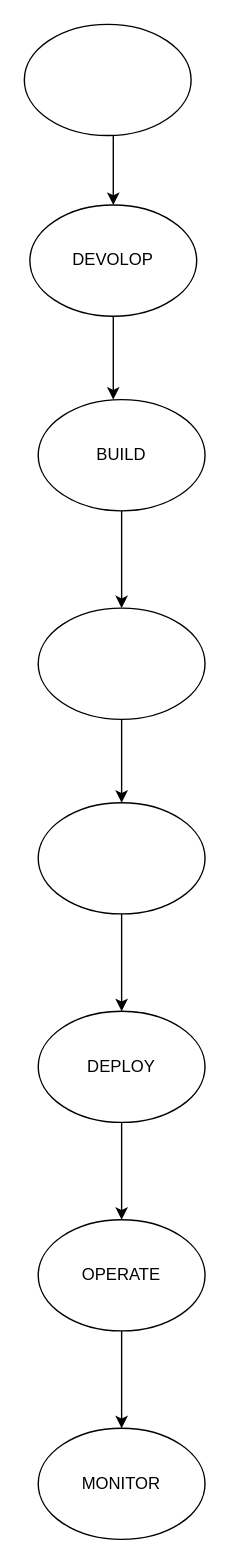
This 229x1564 diagram has some shape labels left out. Here are the shapes that lost their labels. From the top down, the centre of each, then its label:
At point 107,79: "P LAN".
At point 121,663: "TEST".
At point 121,857: "RELEASE".
